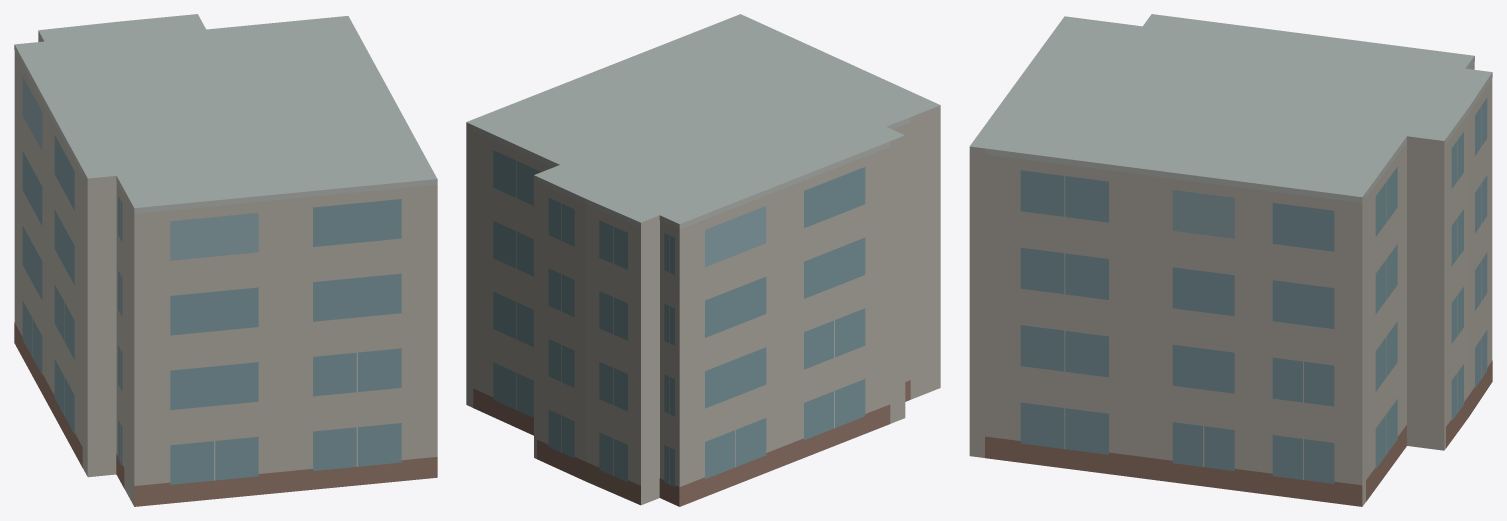
File: survey-upis-32466252.glb
3 views of the same model, side by side, from view 1: azimuth 30°, elevation 25°; view 2: azimuth 150°, elevation 25°; view 3: azimuth 270°, elevation 25° (orthographic). The views are drawn at different scales.
Visible parts, largest first — view 1: survey-upis-32466252.tmp; view 2: survey-upis-32466252.tmp; view 3: survey-upis-32466252.tmp.
Part boxes in pixels (x1,y1,x2,y2): survey-upis-32466252.tmp: (14, 14, 437, 506); survey-upis-32466252.tmp: (466, 14, 940, 506); survey-upis-32466252.tmp: (969, 14, 1492, 506).
Size of the model in its own units: 16.18 by 12.74 by 19.51.
